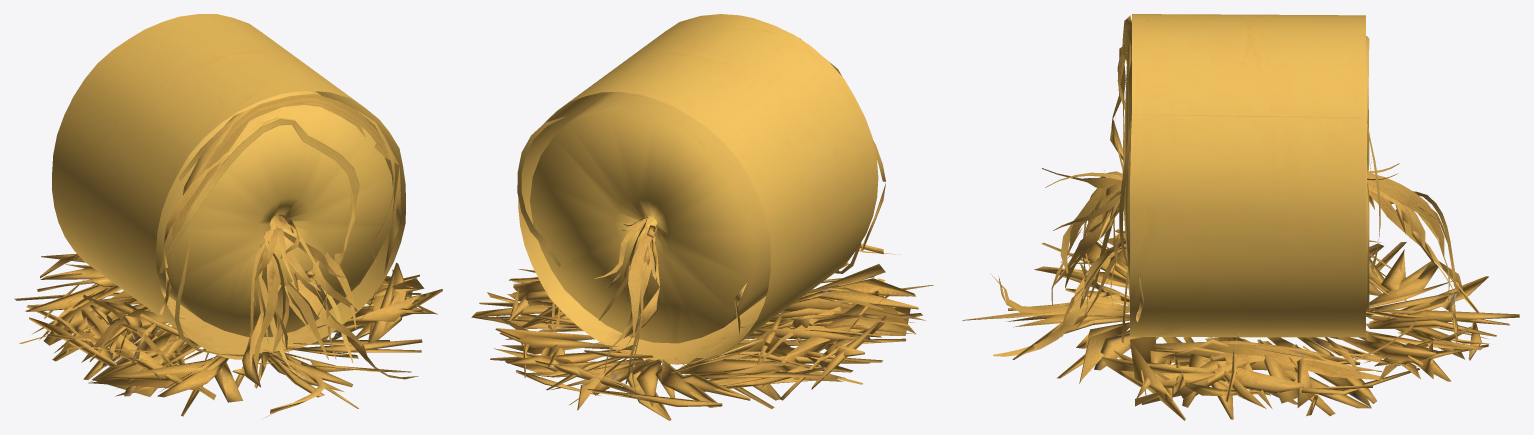
The model's file is hay_bale.glb.
The picture shows the model from 3 angles, left to right: view 1: azimuth 30°, elevation 25°; view 2: azimuth 150°, elevation 25°; view 3: azimuth 270°, elevation 25°; orthographic projection. The views are drawn at different scales.
Size of the model in its own units: 0.812 by 0.5464 by 0.9468.
Materials: 1 (1 with a texture image).
